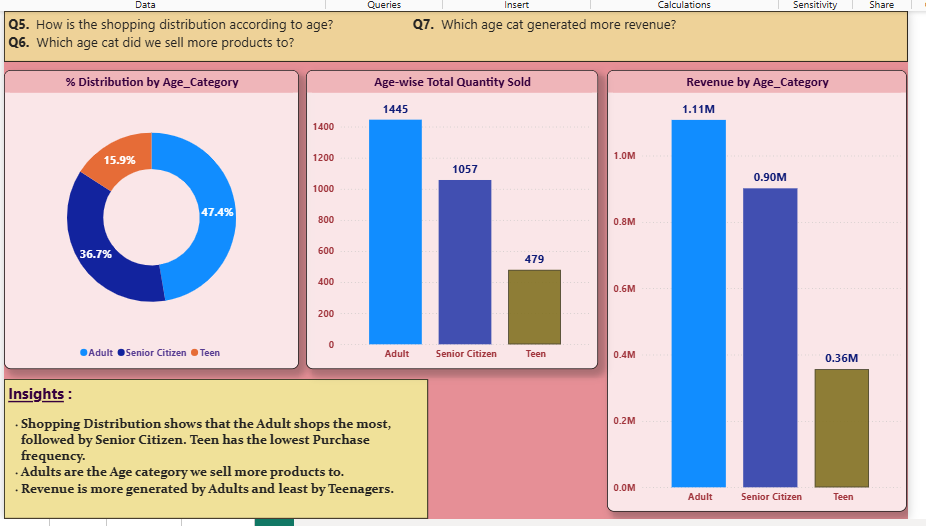

Layout of this report page (visuals, bound fields, positions):
{"tool":"powerbi","page":{"name":"Q5,6,7","canvas":[1280,720],"ordinal":2},"visuals":[{"type":"textbox","box":[0,0,1280.6,71.6],"z":0},{"type":"donutChart","title":"% Distribution by Age_Category","fields":{"Category":["customer_data_team7.Age_Category"],"Y":["CountNonNull(customer_data_team7.invoice_no)"]},"box":[0,83.6,418.1,423.8],"z":1000},{"type":"columnChart","fields":{"Category":["customer_data_team7.Age_Category"],"Y":["customer_data_team7.Revenue"]},"box":[854.6,83.6,425.2,626.5],"z":2000},{"type":"textbox","box":[0,521.6,600.9,198.4],"z":3000},{"type":"columnChart","title":"Age-wise Total Quantity Sold ","fields":{"Category":["customer_data_team7.Age_Category"],"Y":["Sum(customer_data_team7.quantity)"]},"box":[428,83.6,413.9,423.8],"z":4000}]}

Visuals, with their boxes in screenshot pixels (x1, y1, x2, y2):
textbox: locate(0, 7, 909, 58)
"% Distribution by Age_Category" donutChart: locate(0, 67, 293, 369)
columnChart - customer_data_team7.Age_Category x customer_data_team7.Revenue: locate(605, 67, 908, 514)
textbox: locate(0, 379, 424, 521)
"Age-wise Total Quantity Sold " columnChart: locate(301, 67, 596, 369)
